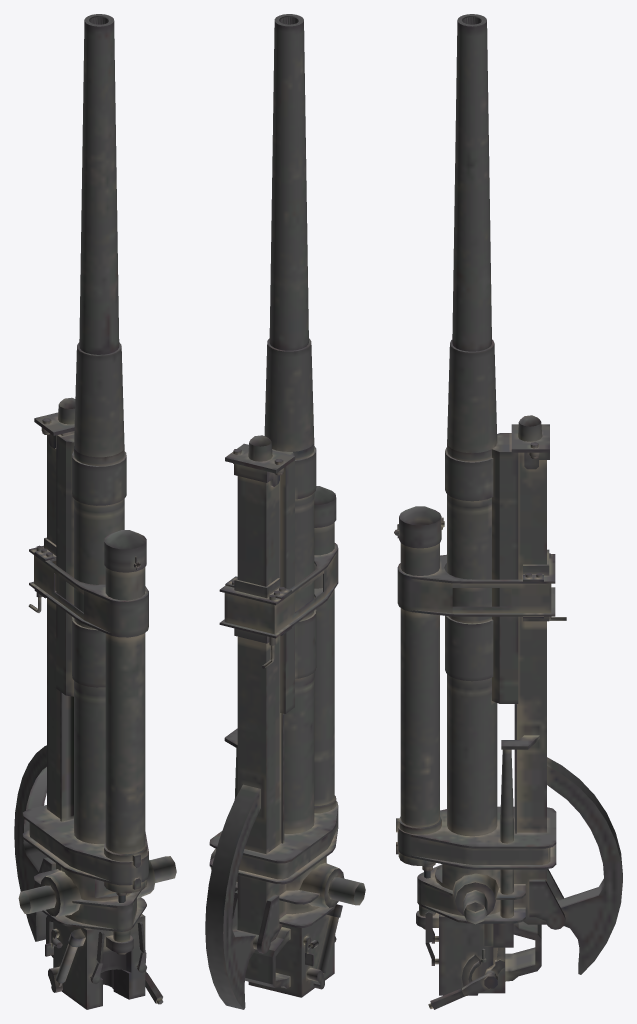
File: Gun_01.glb
3 renders of one model, left to right at view 1: azimuth 30°, elevation 25°; view 2: azimuth 150°, elevation 25°; view 3: azimuth 270°, elevation 25°, orthographic.
Parts seen in each view (by area): view 1: set_0_group_0; view 2: set_0_group_0; view 3: set_0_group_0.
Part boxes in pixels (left/top/right/bottom): set_0_group_0: left=14, top=14, right=176, bottom=1009; set_0_group_0: left=205, top=14, right=365, bottom=1009; set_0_group_0: left=394, top=14, right=622, bottom=1009.
Bounding box in the file's own units: 0.6596 × 4.23 × 0.9048.
Materials: 1 (1 with a texture image).
